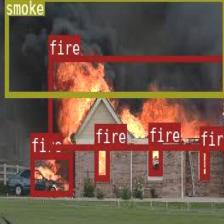fire: (47, 54, 224, 148), (30, 153, 72, 195), (94, 144, 109, 180), (148, 143, 161, 174), (199, 146, 209, 178)
smoke: (4, 0, 224, 97)
